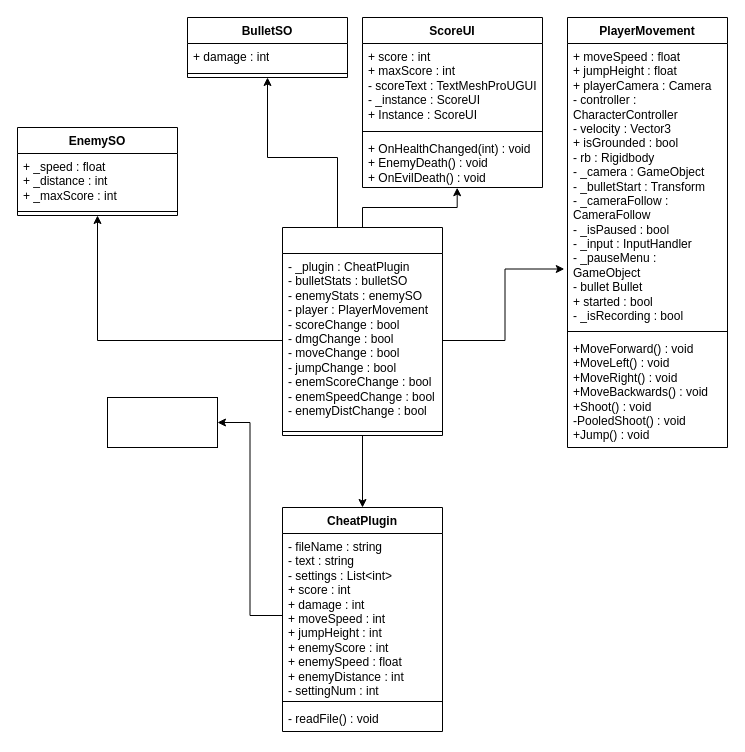
This 745x752 diagram has some shape labels left out. The shapes that lost their labels are listed below. From the top down, each one's box as (x1, y1, x2, y2) in pixels, then its label:
(282, 226, 442, 436): PluginToUnityIntegration
(106, 396, 218, 448): SettingsTest.txt
